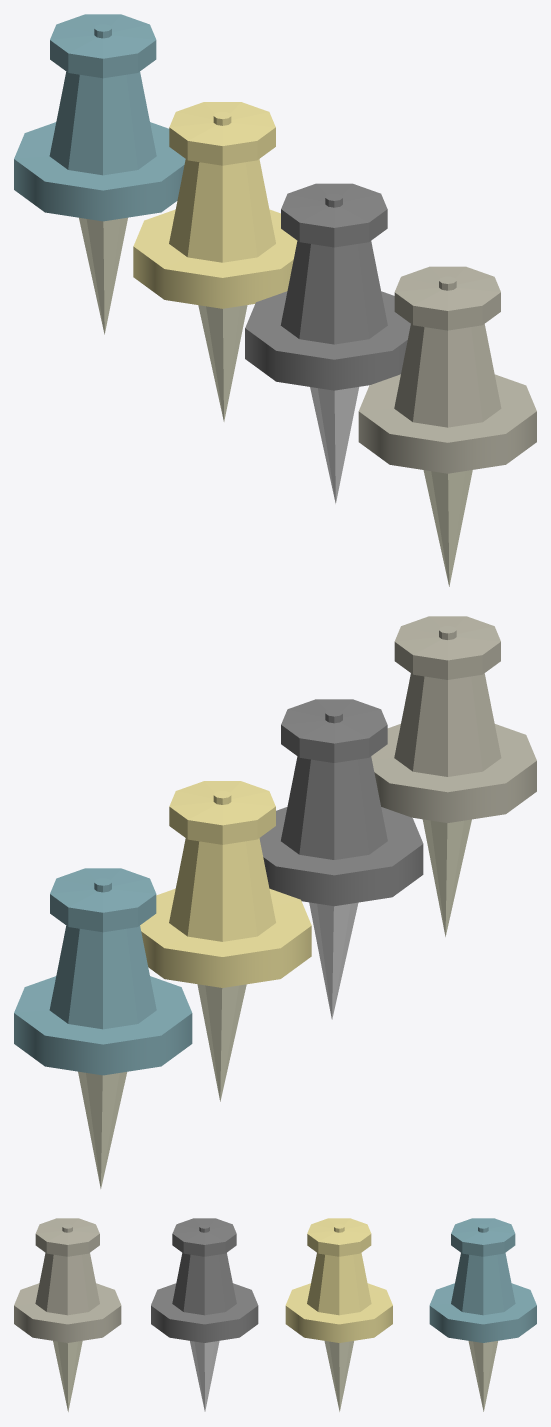
File: Pins.FBX
3 renders of one model, top to bottom at view 1: azimuth 30°, elevation 25°; view 2: azimuth 150°, elevation 25°; view 3: azimuth 270°, elevation 25°, orthographic. The views are drawn at different scales.
Parts seen in each view (by area): view 1: Cylinder003, Cylinder008, Cylinder006, Cylinder007; view 2: Cylinder008, Cylinder007, Cylinder003, Cylinder006; view 3: Cylinder006, Cylinder007, Cylinder008, Cylinder003.
Part boxes in pixels (bbox=[...]): Cylinder003: bbox=[358, 266, 536, 586]; Cylinder008: bbox=[14, 14, 185, 334]; Cylinder006: bbox=[245, 183, 410, 503]; Cylinder007: bbox=[133, 102, 297, 421]; Cylinder008: bbox=[14, 868, 192, 1188]; Cylinder007: bbox=[140, 781, 311, 1101]; Cylinder003: bbox=[371, 616, 536, 936]; Cylinder006: bbox=[259, 699, 423, 1019]; Cylinder006: bbox=[151, 1218, 258, 1411]; Cylinder007: bbox=[285, 1218, 392, 1411]; Cylinder008: bbox=[429, 1218, 536, 1411]; Cylinder003: bbox=[14, 1218, 121, 1411].
Size of the model in its own units: 13.08 by 25.31 by 64.62.
